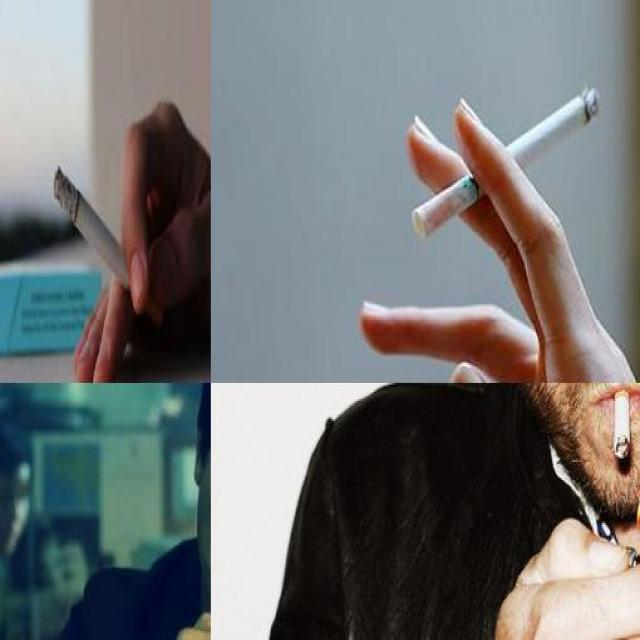cigarette: (410, 82, 604, 242), (54, 164, 162, 328), (610, 385, 634, 464)
